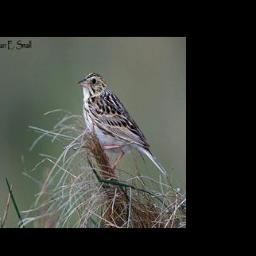Sparrow: (77, 71, 168, 177)
